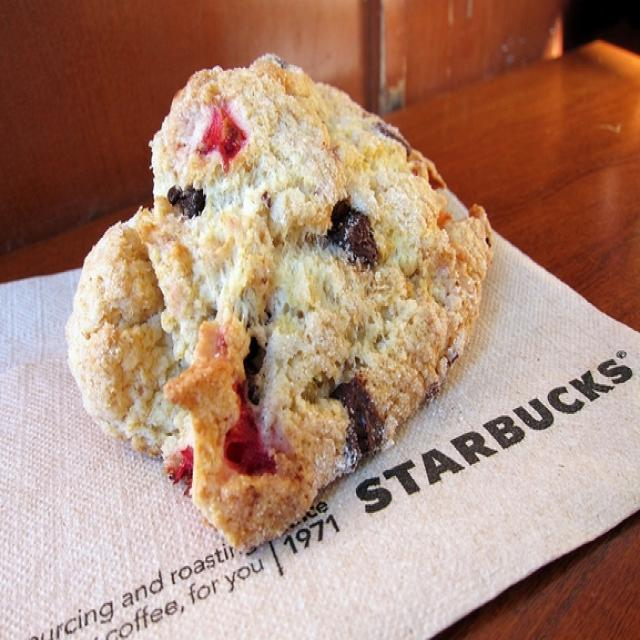面包点心: (63, 34, 504, 557)
